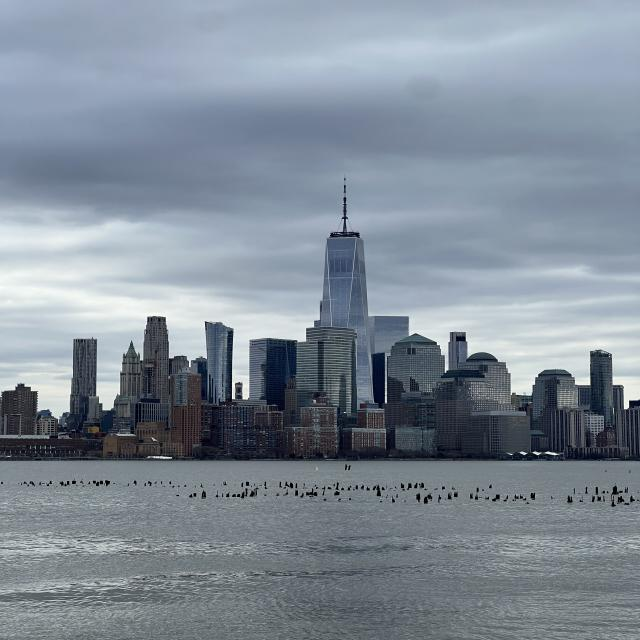WTC: (319, 176, 370, 325)
